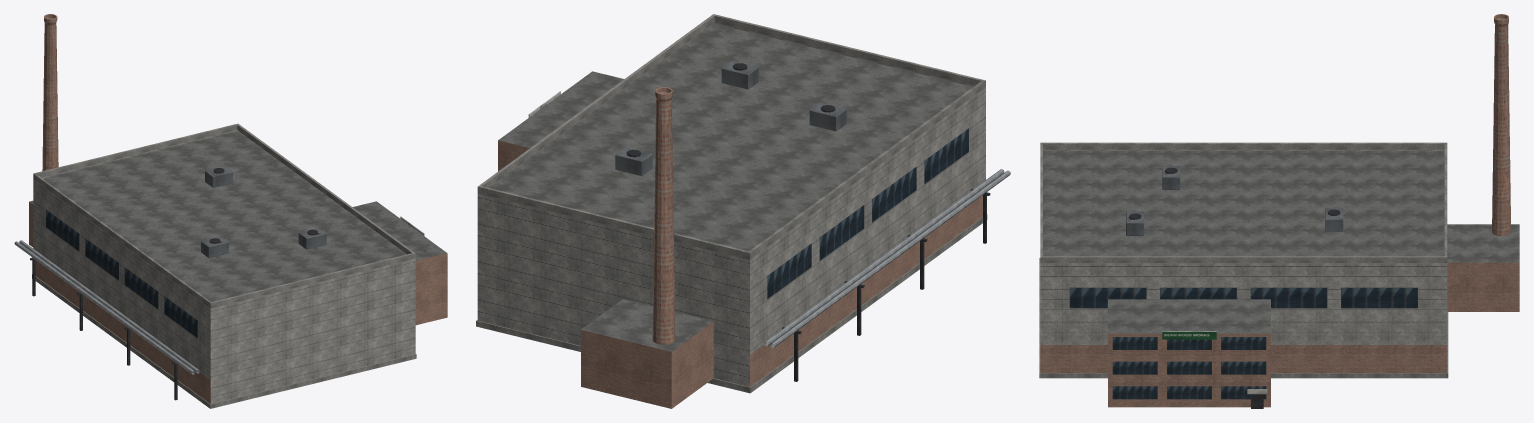
Rendered from wh_annex.glb.
3 renders of one model, left to right at view 1: azimuth 30°, elevation 25°; view 2: azimuth 150°, elevation 25°; view 3: azimuth 270°, elevation 25°, orthographic. The views are drawn at different scales.
Parts seen in each view (by area): view 1: wh_annex; view 2: wh_annex; view 3: wh_annex.
Part boxes in pixels (box(x1,y1,x2,y2)): wh_annex: box(14, 14, 447, 408); wh_annex: box(476, 14, 1010, 408); wh_annex: box(1039, 14, 1519, 408).
Size of the model in its own units: 43.3 by 32.8 by 53.1.
1 material, 1 textured.
